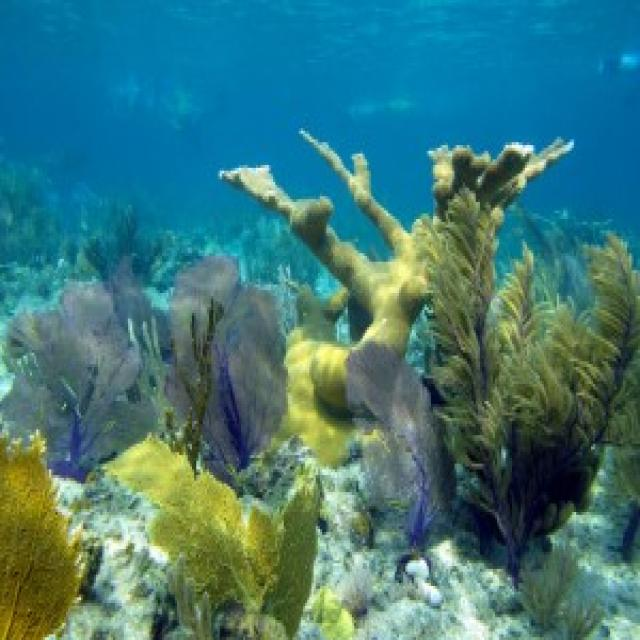Healthy: (223, 135, 571, 539), (430, 192, 639, 567), (106, 436, 321, 638), (1, 283, 152, 467), (170, 257, 285, 479), (349, 342, 455, 544), (1, 433, 80, 638)
